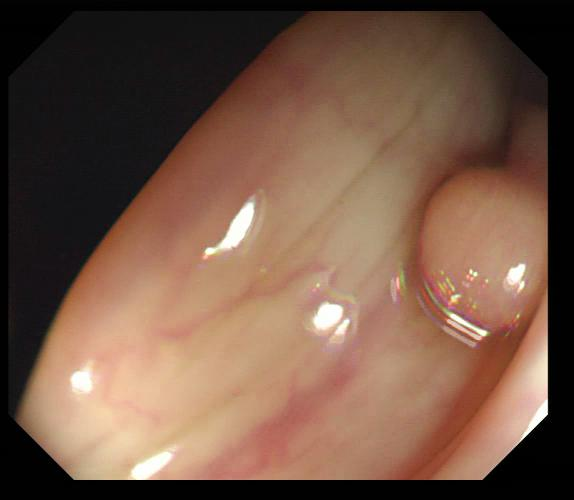polyp: (417, 112, 548, 336)
